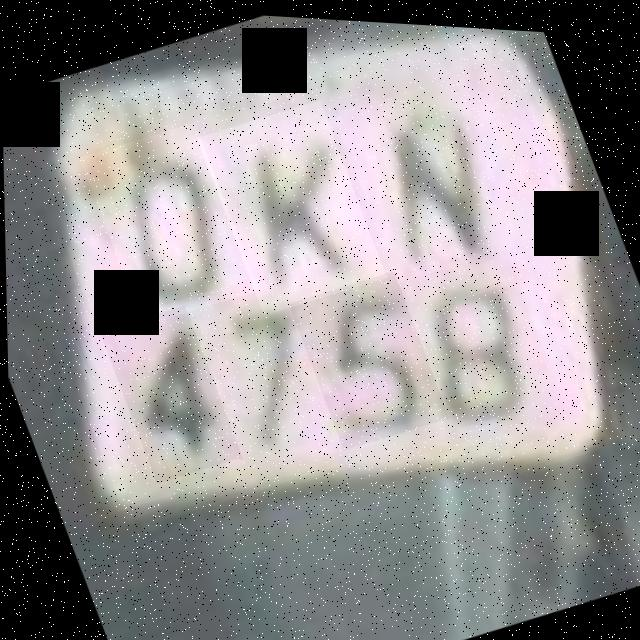4: (98, 298, 242, 487)
5: (287, 262, 448, 451)
7: (181, 268, 352, 478)
8: (385, 230, 566, 446)
K: (196, 90, 387, 318)
N: (332, 65, 520, 284)
O: (78, 115, 259, 330)
